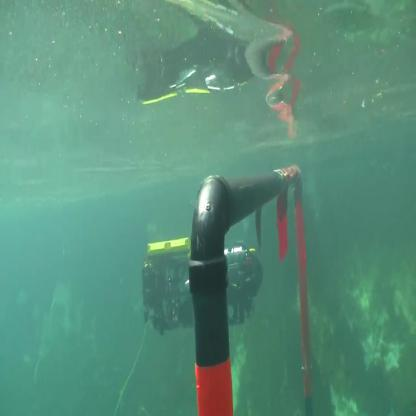gate: (193, 159, 315, 416)
